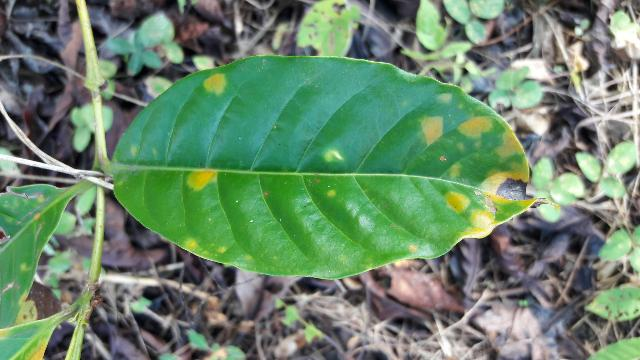rust_level_3: (116, 50, 532, 281)
